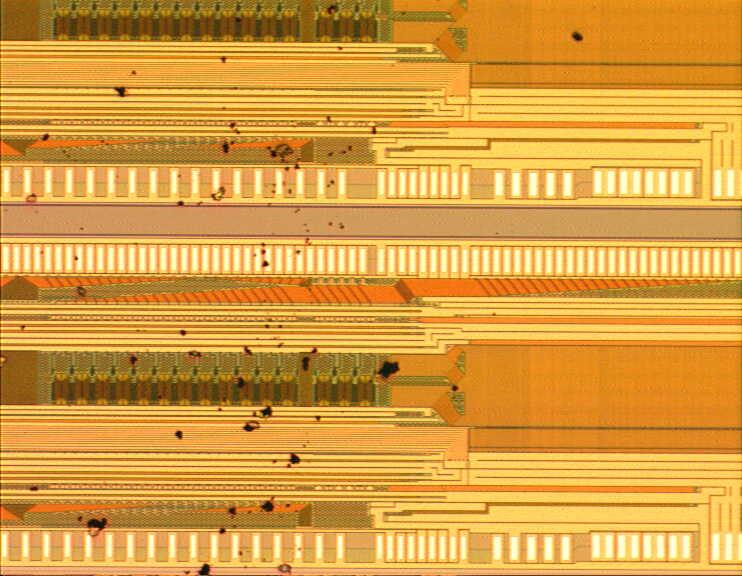PO CONTAMINATION: (17, 1, 589, 576)
